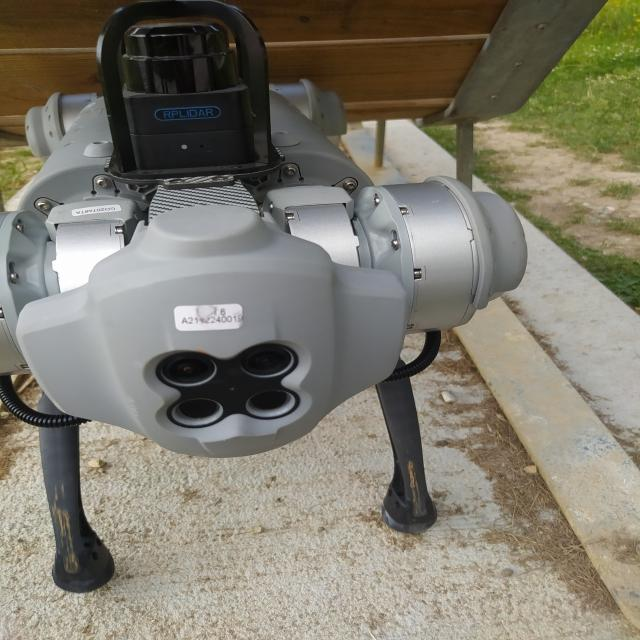unitree-go1-robot: (0, 0, 539, 608)
